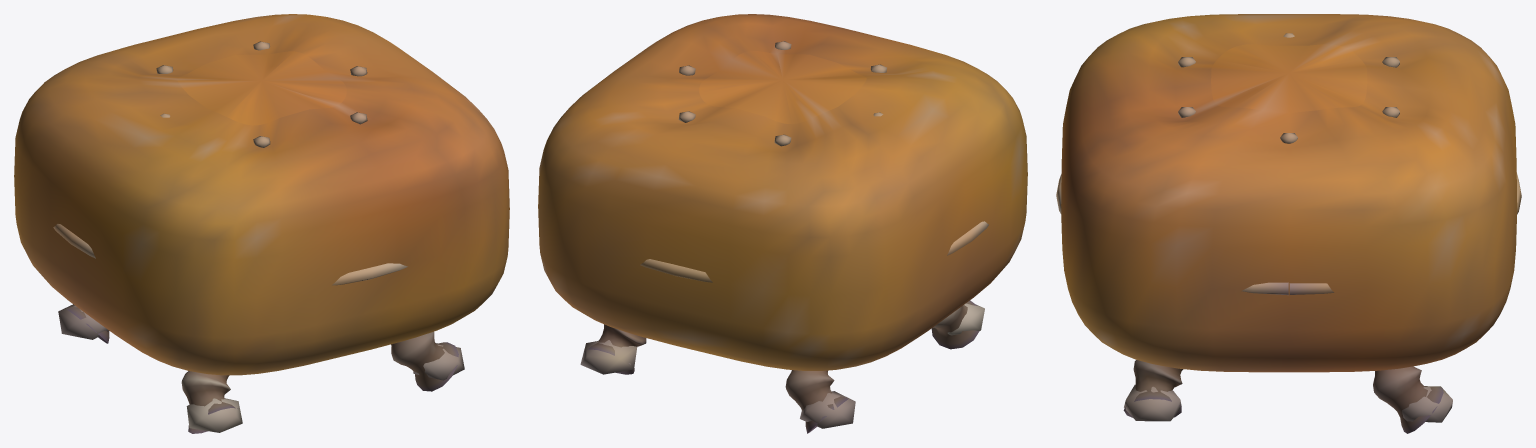
File: puf.glb
3 views of the same model, side by side, from view 1: azimuth 30°, elevation 25°; view 2: azimuth 150°, elevation 25°; view 3: azimuth 270°, elevation 25° (orthographic). The views are drawn at different scales.
Parts seen in each view (by area): view 1: puf_LOD0; view 2: puf_LOD0; view 3: puf_LOD0.
Boxes of the visible parts, <box> form: puf_LOD0: <box>14,14,509,433</box>; puf_LOD0: <box>538,14,1027,433</box>; puf_LOD0: <box>1056,14,1521,433</box>.
Size of what is drawn, in the model's own units: 0.6329 by 0.4491 by 0.6325.
